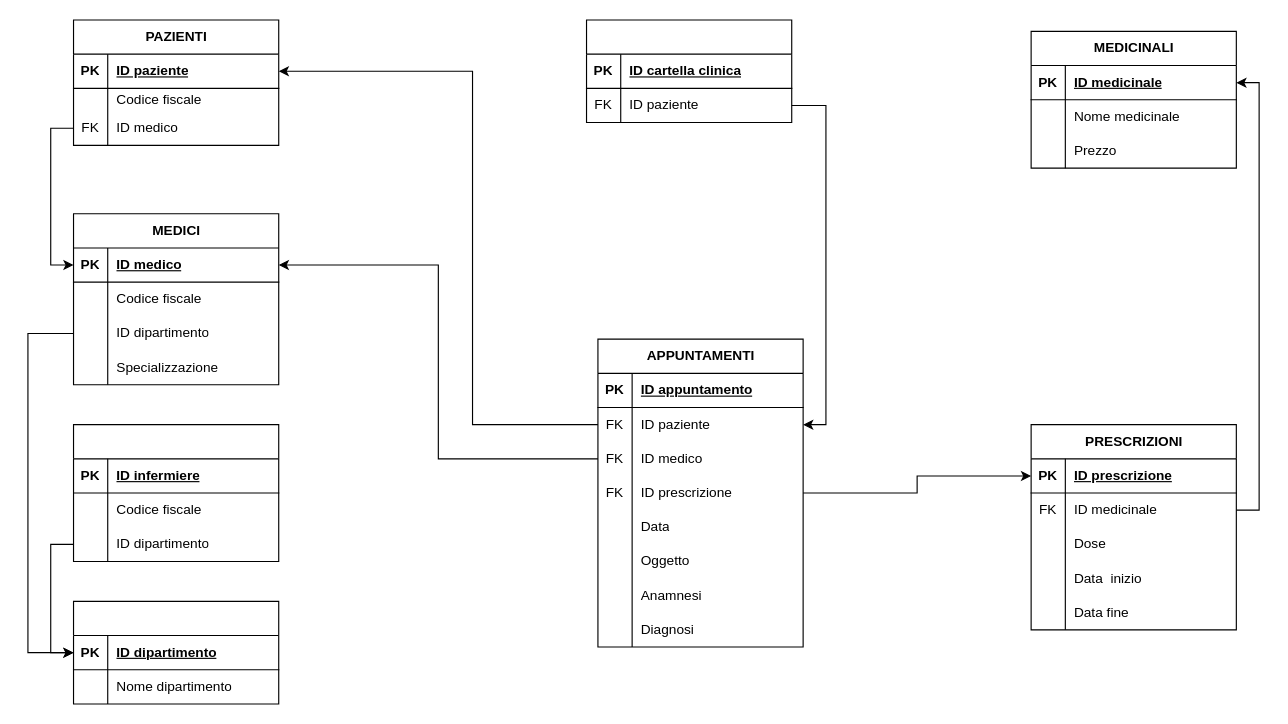
This 1288x724 diagram has some shape labels left out. The box of each missing label's shape, as (x1, y1, x2, y2) in pixels:
CARTELLE CLINICHE: (585, 19, 792, 123)
DIPARTIMENTI: (72, 600, 279, 704)
INFERMIERI: (72, 424, 279, 561)
